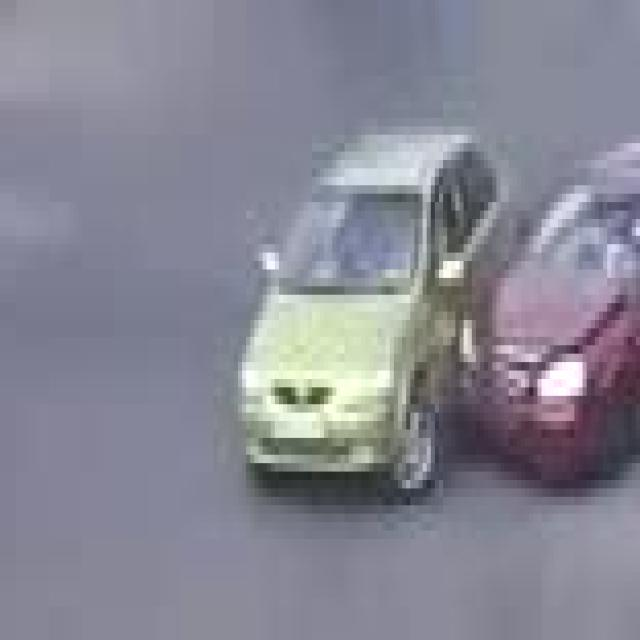accident: (234, 129, 640, 507)
